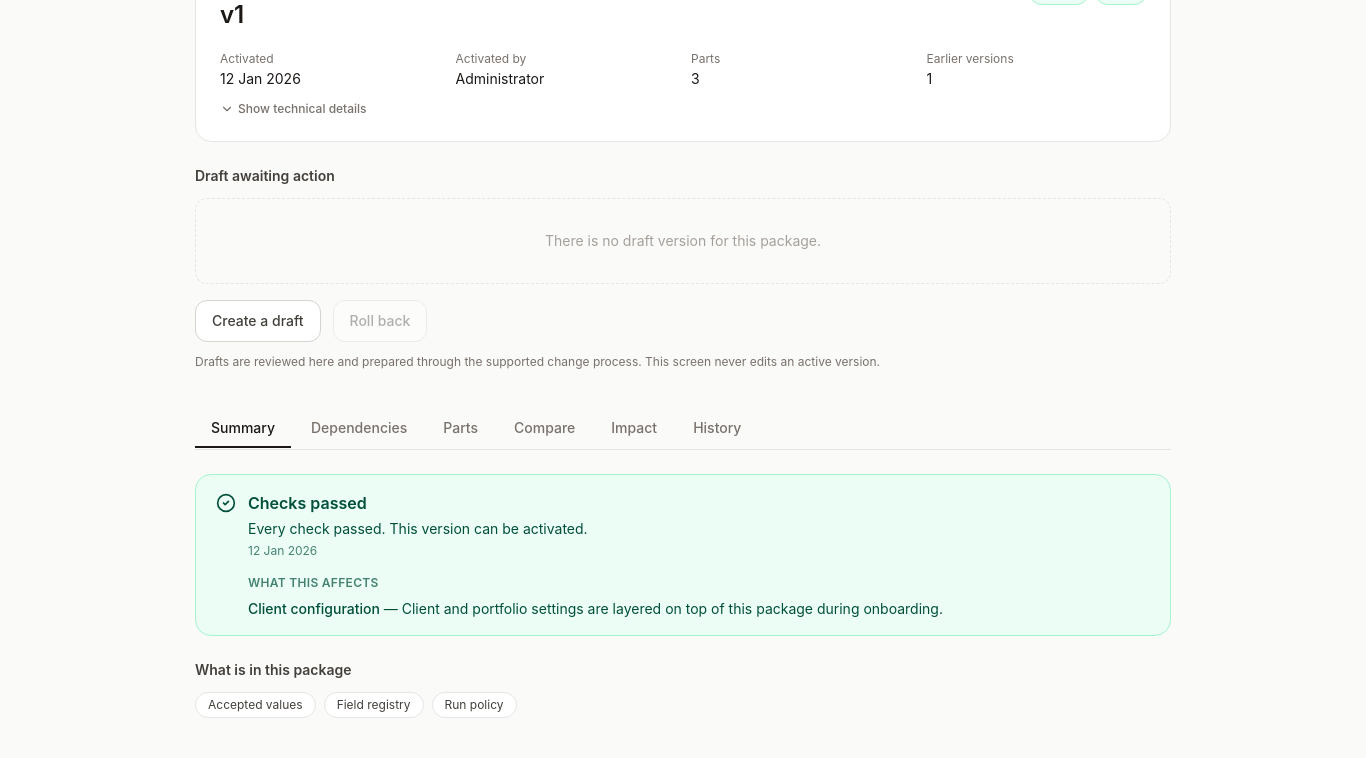
Scenario: versions › says so when two versions are identical
(page scrolled)
What coordinates should you click on to do the following:
click the button "Compare"
I would click on:
 (545, 429)
Its box is left=498, top=410, right=591, bottom=448.
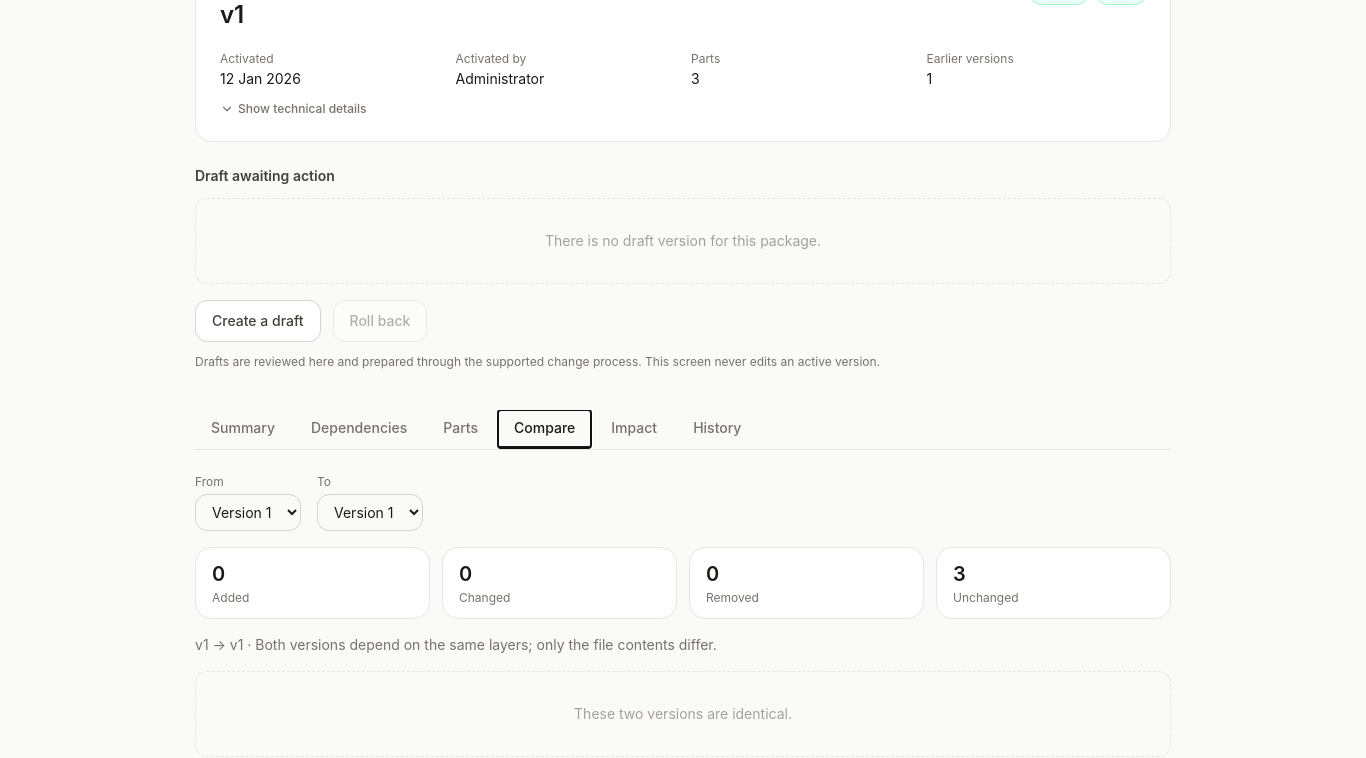
Expected: the text "These two versions are identical." is shown, left=195, top=671, right=1171, bottom=757
